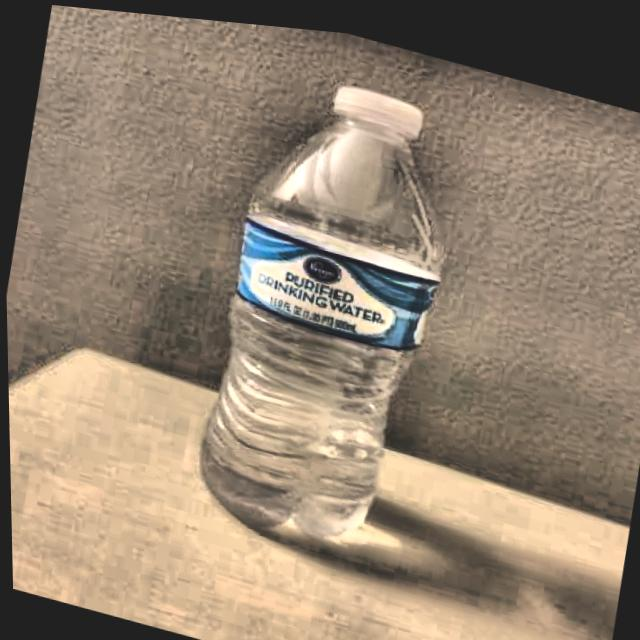Bottles: (171, 46, 488, 571)
